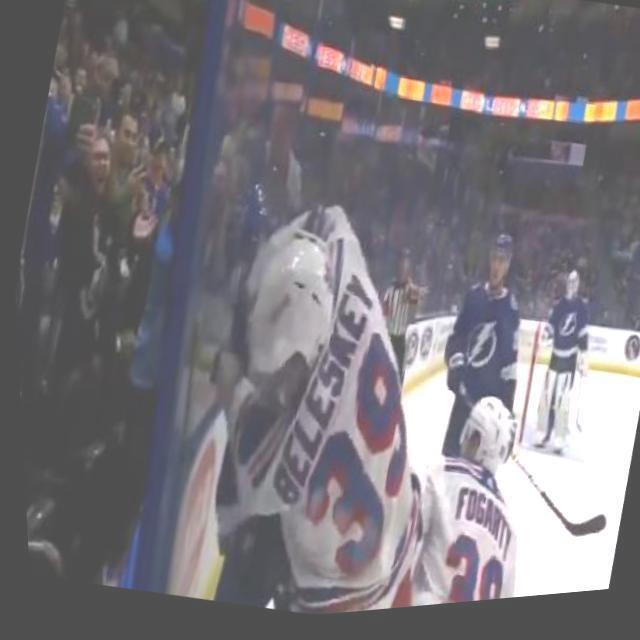fight: (145, 162, 491, 630)
